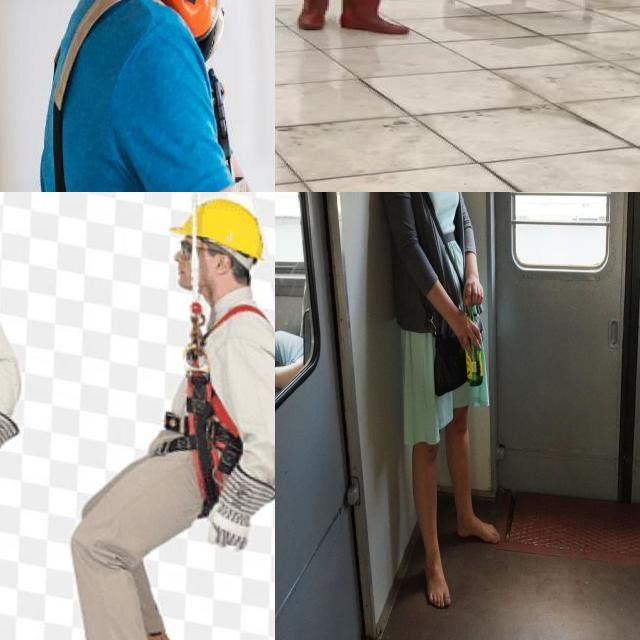Barefoots: (424, 552, 451, 608), (456, 515, 500, 544)
Ear-protection: (141, 0, 240, 50)
Harness: (185, 365, 244, 518)
boots: (339, 0, 409, 36), (293, 0, 331, 32)
person: (29, 0, 275, 192)
